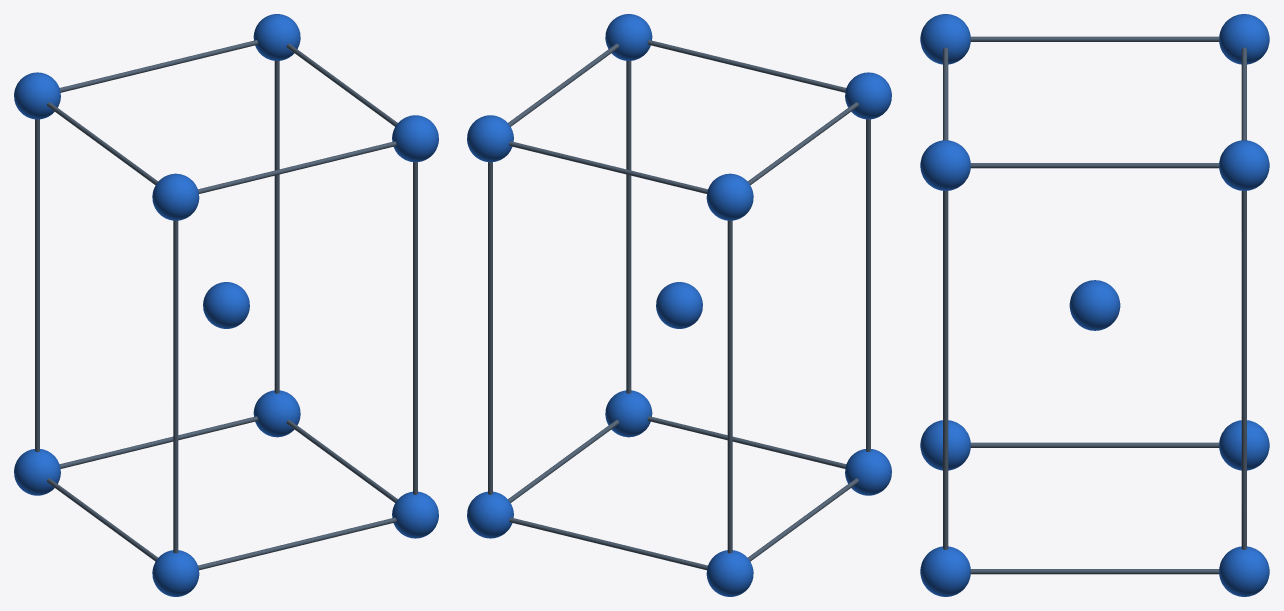
File: Tetragonal-I.glb
3 renders of one model, left to right at view 1: azimuth 30°, elevation 25°; view 2: azimuth 150°, elevation 25°; view 3: azimuth 270°, elevation 25°, orthographic. The views are drawn at different scales.
Parts seen in each view (by area): view 1: Kante_c_0_0, Kante_c_1_1, Innenpunkt_0.5_0.5_0.5, Ecke_0_0_1, Ecke_1_0_1, Ecke_0_0_0, Ecke_1_0_0, Ecke_0_1_1, Ecke_0_1_0, Ecke_1_1_1, Ecke_1_1_0, Kante_c_0_1 (+9 smaller); view 2: Kante_c_0_1, Kante_c_1_0, Innenpunkt_0.5_0.5_0.5, Ecke_0_1_1, Ecke_1_1_1, Ecke_0_1_0, Ecke_1_1_0, Ecke_0_0_1, Ecke_0_0_0, Ecke_1_0_1, Ecke_1_0_0, Kante_c_0_0 (+9 smaller); view 3: Kante_c_1_0, Kante_c_1_1, Innenpunkt_0.5_0.5_0.5, Ecke_1_0_1, Ecke_1_1_1, Ecke_1_0_0, Ecke_1_1_0, Ecke_0_0_1, Ecke_0_1_1, Ecke_0_0_0, Ecke_0_1_0, Kante_b_0_0 (+5 smaller).
Part boxes in pixels (left/top/right/bottom): Kante_c_0_0: left=173, top=220, right=178, bottom=553; Kante_c_1_1: left=274, top=61, right=279, bottom=393; Innenpunkt_0.5_0.5_0.5: left=203, top=282, right=249, bottom=328; Ecke_0_0_1: left=152, top=173, right=199, bottom=220; Ecke_1_0_1: left=392, top=115, right=438, bottom=162; Ecke_0_0_0: left=152, top=550, right=199, bottom=596; Ecke_1_0_0: left=392, top=491, right=438, bottom=538; Ecke_0_1_1: left=14, top=72, right=60, bottom=119; Ecke_0_1_0: left=14, top=449, right=60, bottom=495; Ecke_1_1_1: left=253, top=14, right=300, bottom=60; Ecke_1_1_0: left=253, top=390, right=300, bottom=437; Kante_c_0_1: left=35, top=119, right=39, bottom=451; Kante_c_0_1: left=727, top=220, right=732, bottom=553; Kante_c_1_0: left=626, top=61, right=631, bottom=393; Innenpunkt_0.5_0.5_0.5: left=656, top=282, right=702, bottom=328; Ecke_0_1_1: left=706, top=173, right=753, bottom=220; Ecke_1_1_1: left=467, top=115, right=513, bottom=162; Ecke_0_1_0: left=706, top=550, right=753, bottom=596; Ecke_1_1_0: left=467, top=491, right=513, bottom=538; Ecke_0_0_1: left=845, top=72, right=891, bottom=119; Ecke_0_0_0: left=845, top=449, right=891, bottom=495; Ecke_1_0_1: left=605, top=14, right=652, bottom=60; Ecke_1_0_0: left=605, top=390, right=652, bottom=437; Kante_c_0_0: left=866, top=119, right=870, bottom=451; Kante_c_1_0: left=943, top=191, right=948, bottom=549; Kante_c_1_1: left=1241, top=191, right=1246, bottom=549; Innenpunkt_0.5_0.5_0.5: left=1069, top=280, right=1120, bottom=330; Ecke_1_0_1: left=920, top=140, right=970, bottom=190; Ecke_1_1_1: left=1219, top=140, right=1269, bottom=190; Ecke_1_0_0: left=920, top=546, right=970, bottom=596; Ecke_1_1_0: left=1219, top=546, right=1269, bottom=596; Ecke_0_0_1: left=920, top=14, right=970, bottom=64; Ecke_0_1_1: left=1219, top=14, right=1269, bottom=64; Ecke_0_0_0: left=920, top=420, right=970, bottom=470; Ecke_0_1_0: left=1219, top=420, right=1269, bottom=470; Kante_b_0_0: left=970, top=442, right=1219, bottom=447.
Size of the model in its own units: 1.17 by 1.67 by 1.17.
